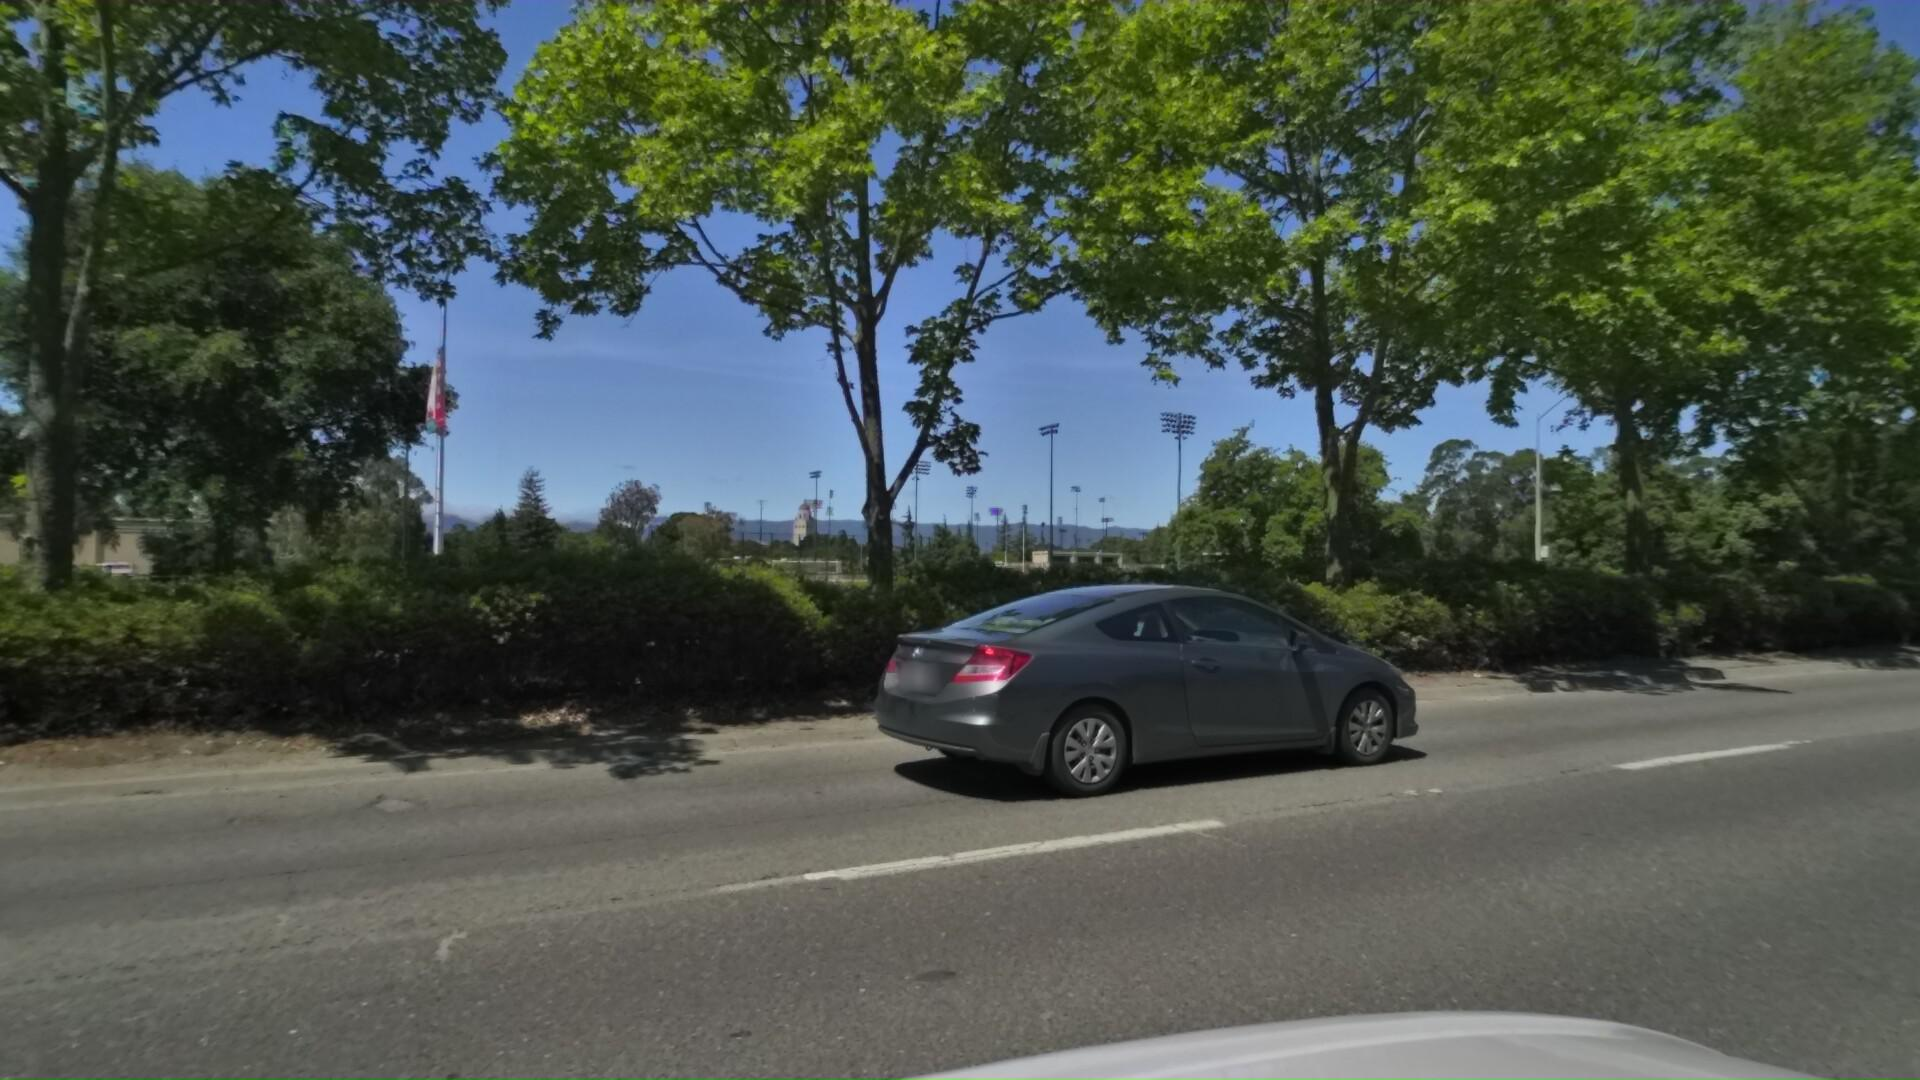car: (851, 582, 1457, 829)
